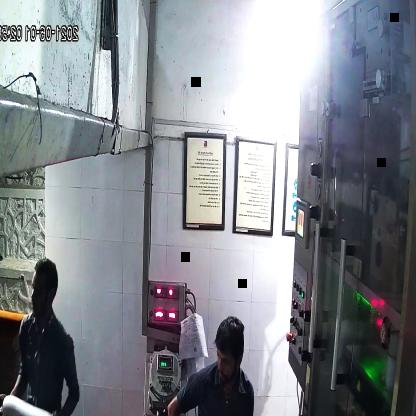no_goggles: (215, 345, 248, 372)
